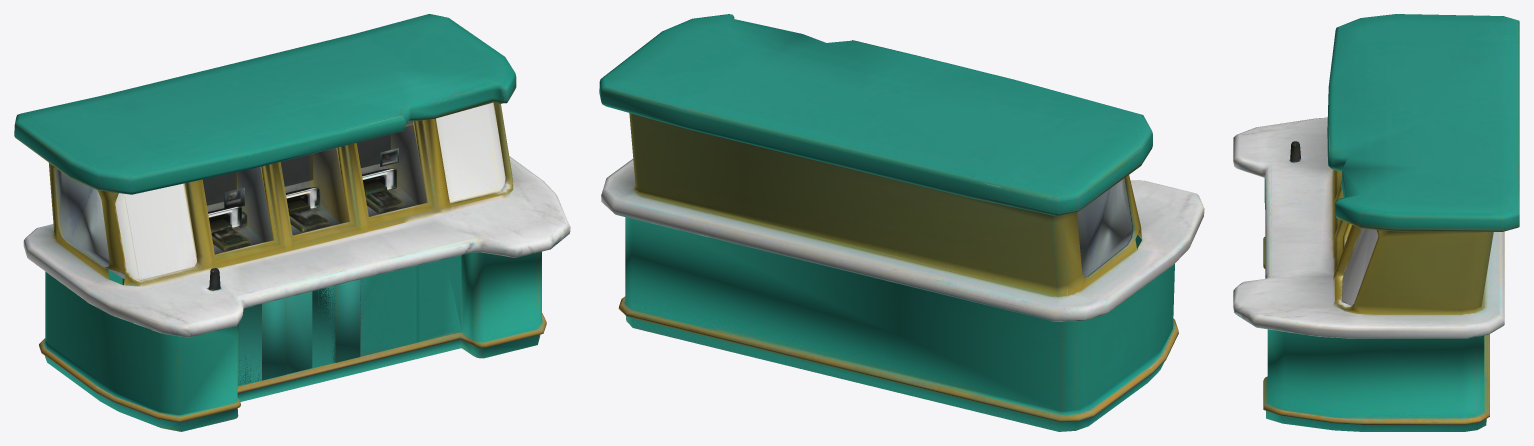
File: Bank_MiamiTellerDesk.glb
3 renders of one model, left to right at view 1: azimuth 30°, elevation 25°; view 2: azimuth 150°, elevation 25°; view 3: azimuth 270°, elevation 25°, orthographic. The views are drawn at different scales.
Visible parts, largest first — view 1: tripo_node_5b1a9ddd-744c-49c5-bb0d-fdc740e33e5b; view 2: tripo_node_5b1a9ddd-744c-49c5-bb0d-fdc740e33e5b; view 3: tripo_node_5b1a9ddd-744c-49c5-bb0d-fdc740e33e5b.
Boxes of the visible parts, x1=… form: tripo_node_5b1a9ddd-744c-49c5-bb0d-fdc740e33e5b: x1=14, y1=14, x2=570, y2=431; tripo_node_5b1a9ddd-744c-49c5-bb0d-fdc740e33e5b: x1=599, y1=14, x2=1204, y2=431; tripo_node_5b1a9ddd-744c-49c5-bb0d-fdc740e33e5b: x1=1233, y1=14, x2=1519, y2=431.
Bounding box in the file's own units: 1 × 0.489 × 0.5701.
Materials: 1 (1 with a texture image).
